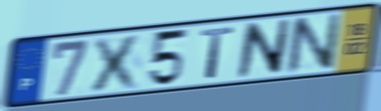5: (147, 27, 189, 88)
7: (49, 37, 92, 98)
N: (284, 11, 344, 77), (234, 17, 293, 80)
T: (198, 24, 237, 81)
X: (86, 31, 146, 94)
